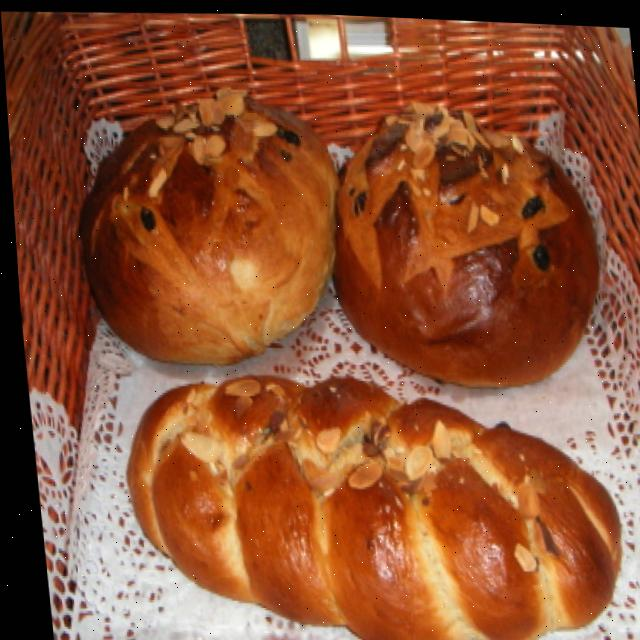面包点心: (67, 48, 640, 640)
